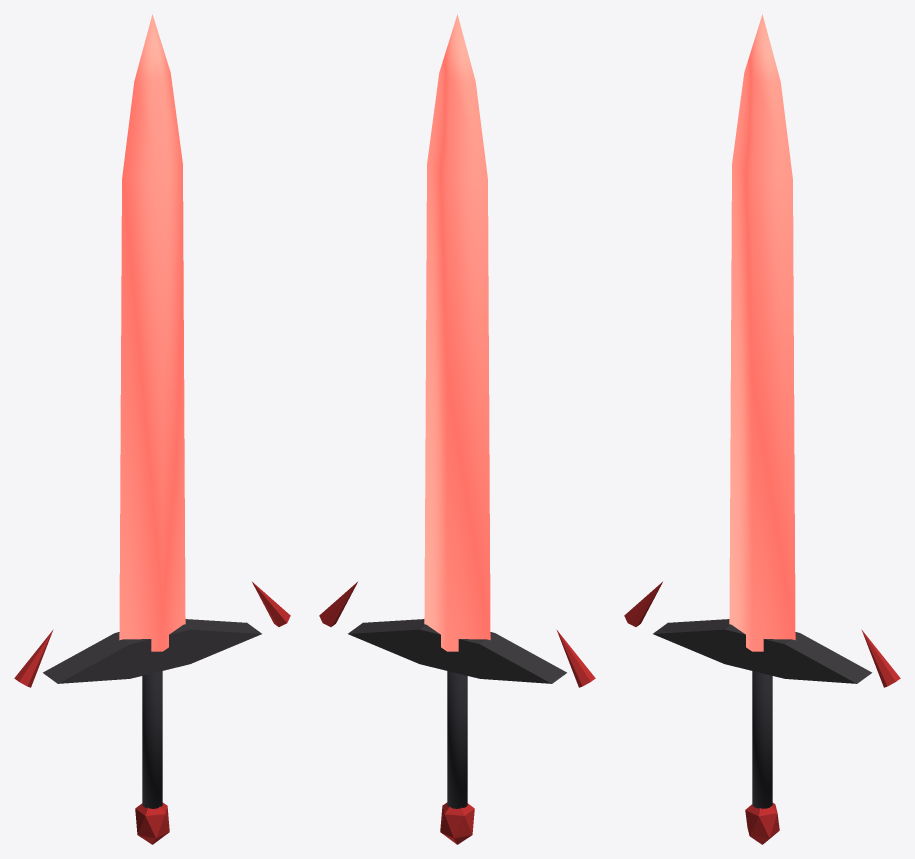
Rendered from Mara_EnergyBlade.glb.
3 renders of one model, left to right at view 1: azimuth 30°, elevation 25°; view 2: azimuth 150°, elevation 25°; view 3: azimuth 330°, elevation 25°, orthographic.
Visible parts, largest first — view 1: Blade_GlowShell, Blade_Guard, Blade_Grip, Blade_Pommel, Blade_GuardSpike_L, Blade_GuardSpike_R; view 2: Blade_GlowShell, Blade_Guard, Blade_Grip, Blade_Pommel, Blade_GuardSpike_L, Blade_GuardSpike_R; view 3: Blade_GlowShell, Blade_Guard, Blade_Grip, Blade_Pommel, Blade_GuardSpike_R, Blade_GuardSpike_L.
Part boxes in pixels (x1,y1,x2,y2): Blade_GlowShell: (119, 14, 185, 651); Blade_Guard: (43, 619, 261, 683); Blade_Grip: (142, 671, 162, 808); Blade_Pommel: (135, 802, 169, 844); Blade_GuardSpike_L: (14, 629, 53, 687); Blade_GuardSpike_R: (252, 582, 290, 626); Blade_GlowShell: (424, 14, 490, 651); Blade_Guard: (348, 619, 566, 683); Blade_Grip: (447, 671, 467, 808); Blade_Pommel: (440, 802, 474, 844); Blade_GuardSpike_L: (556, 629, 595, 687); Blade_GuardSpike_R: (319, 582, 357, 626); Blade_GlowShell: (729, 14, 795, 651); Blade_Guard: (653, 619, 871, 683); Blade_Grip: (752, 671, 772, 808); Blade_Pommel: (745, 803, 779, 844); Blade_GuardSpike_R: (861, 629, 900, 687); Blade_GuardSpike_L: (624, 582, 662, 626).
Bounding box in the file's own units: 0.4515 × 1.32 × 0.06.
